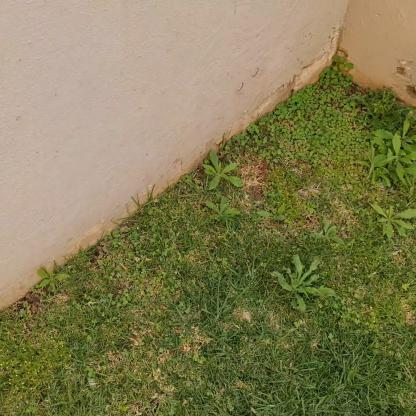Weeds: (272, 255, 336, 312), (370, 199, 415, 242), (202, 149, 244, 191), (381, 134, 415, 184), (374, 120, 415, 154), (356, 147, 387, 186), (206, 197, 242, 224), (312, 218, 344, 245), (35, 268, 69, 291), (259, 205, 286, 225)
